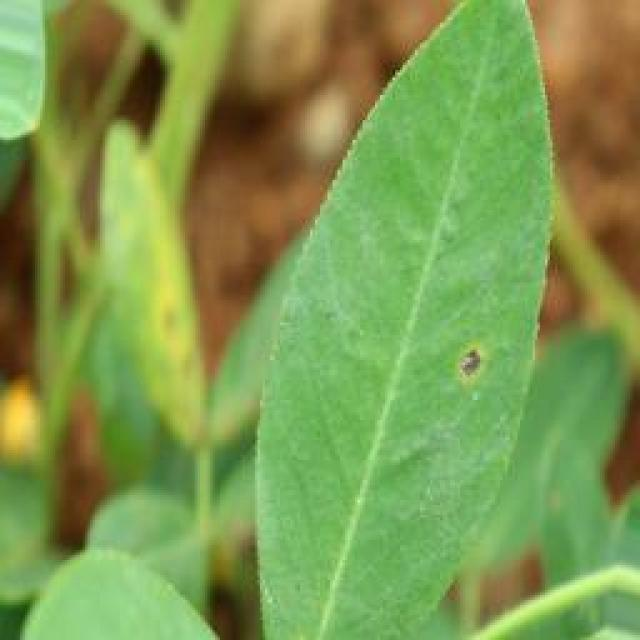Sigatoka: (415, 318, 507, 397)
